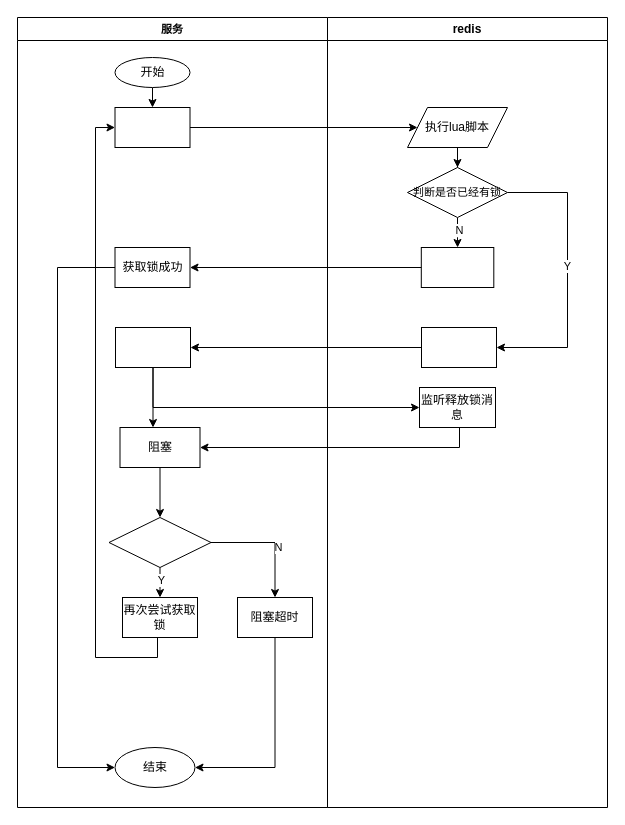
Some shapes in this 625 by 825 pixel diagram are drawn without their labels. The centre of each missing label's shape, as x and y in pixels:
"使用lua脚本尝试加锁" belongs at [152,127].
"使用redis的消息机制去监听锁释放的消息" belongs at [152,347].
"加上锁" belongs at [457,267].
"是否监听到消息" belongs at [159,542].
"获取当前锁过期时间" belongs at [458,347].
